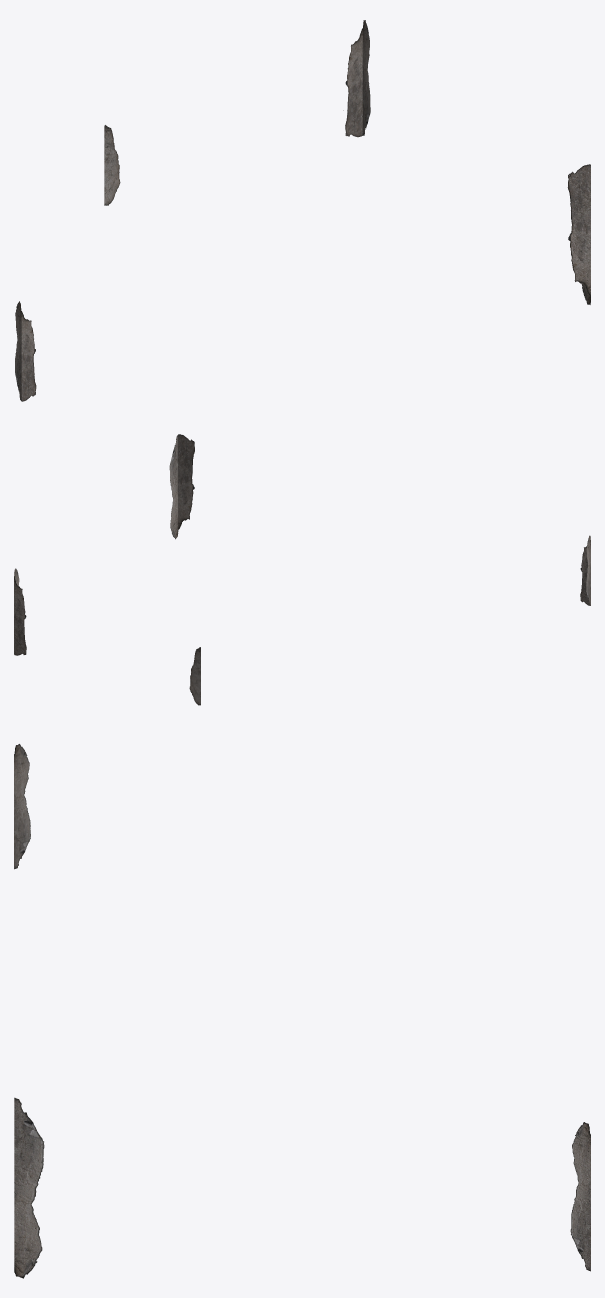
File: BuildingSmallDecal01_2048.glb
3 renders of one model, top to bottom at view 1: azimuth 30°, elevation 25°; view 2: azimuth 150°, elevation 25°; view 3: azimuth 270°, elevation 25°, orthographic. The views are drawn at different scales.
Parts seen in each view (by area): view 1: xiutz_building_small_decal_0; view 2: xiutz_building_small_decal_0; view 3: xiutz_building_small_decal_0.
Boxes of the visible parts, box(x1,y1,x2,y2) form: xiutz_building_small_decal_0: box(15, 20, 590, 401); xiutz_building_small_decal_0: box(14, 434, 590, 705); xiutz_building_small_decal_0: box(14, 744, 590, 1278).
Size of the model in its own units: 8.36 by 2.21 by 5.78.
1 material, 1 textured.
